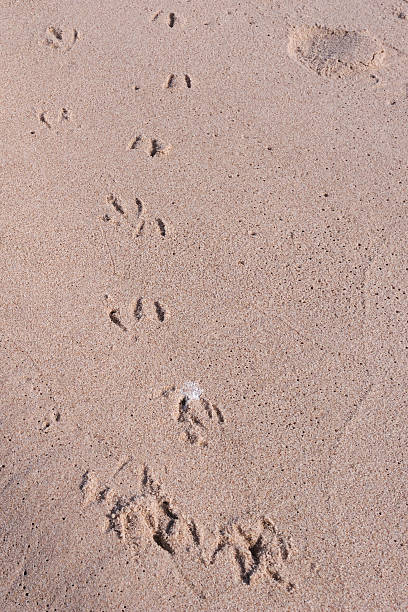animal_footprint: (80, 466, 295, 597), (0, 330, 63, 434), (221, 517, 294, 591), (288, 25, 384, 77), (161, 382, 223, 447), (102, 194, 168, 237), (104, 294, 168, 337), (102, 194, 143, 236), (128, 134, 171, 157), (43, 26, 78, 51), (38, 107, 70, 133), (163, 73, 191, 88), (152, 10, 176, 27)
